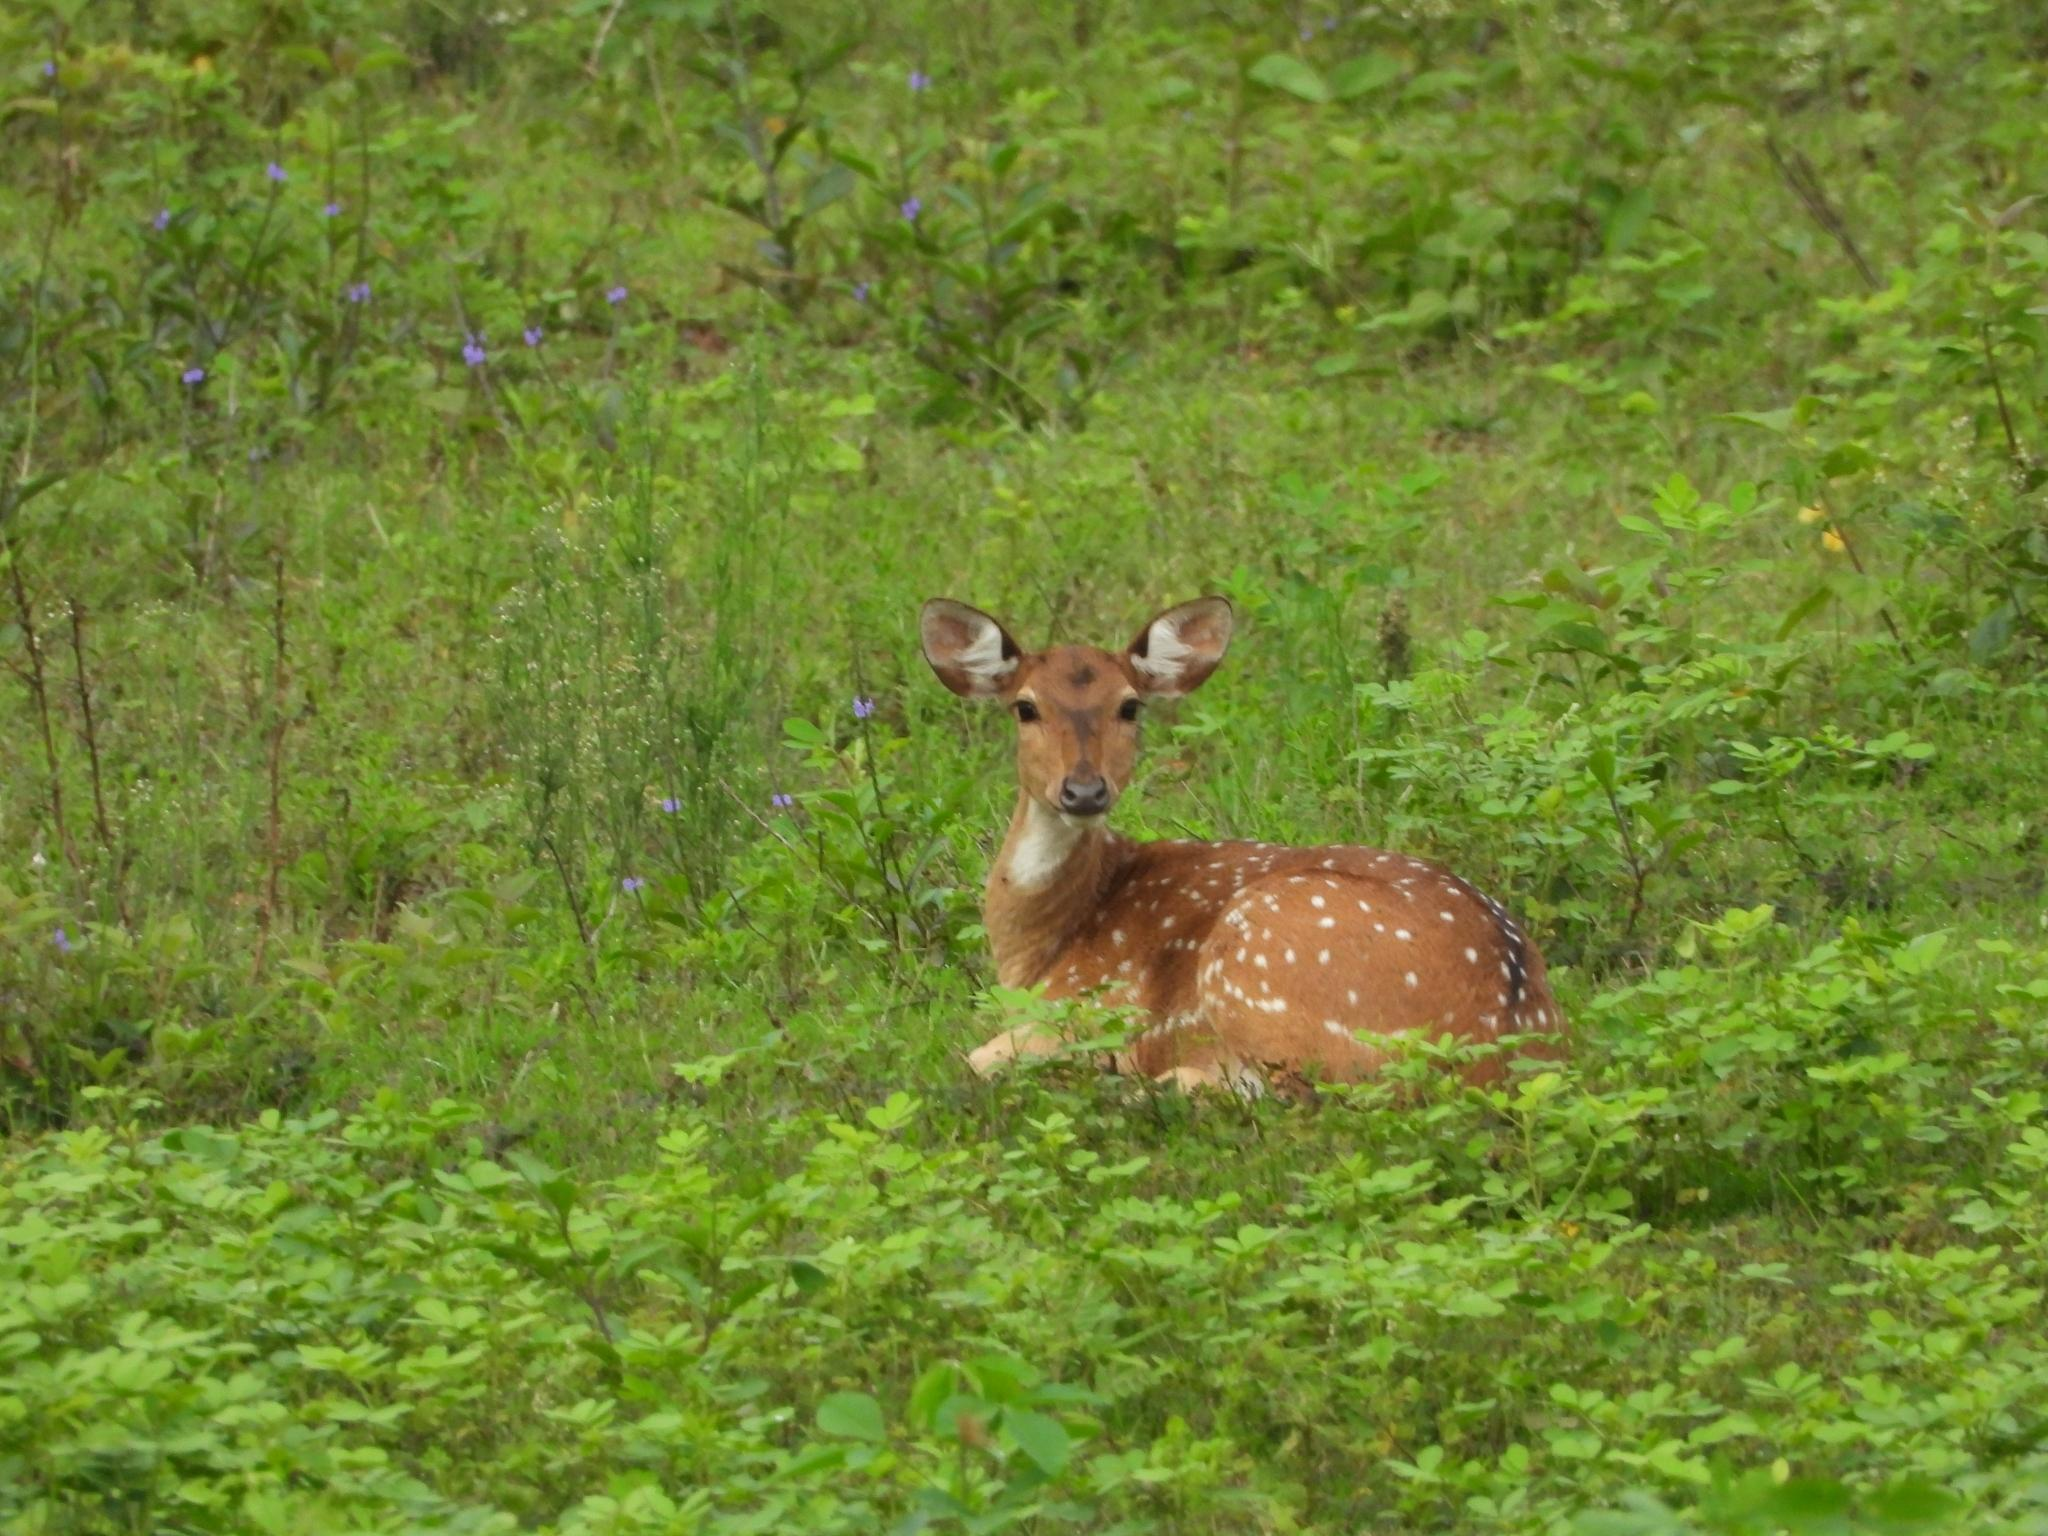Deer: (921, 597, 1564, 1086)
